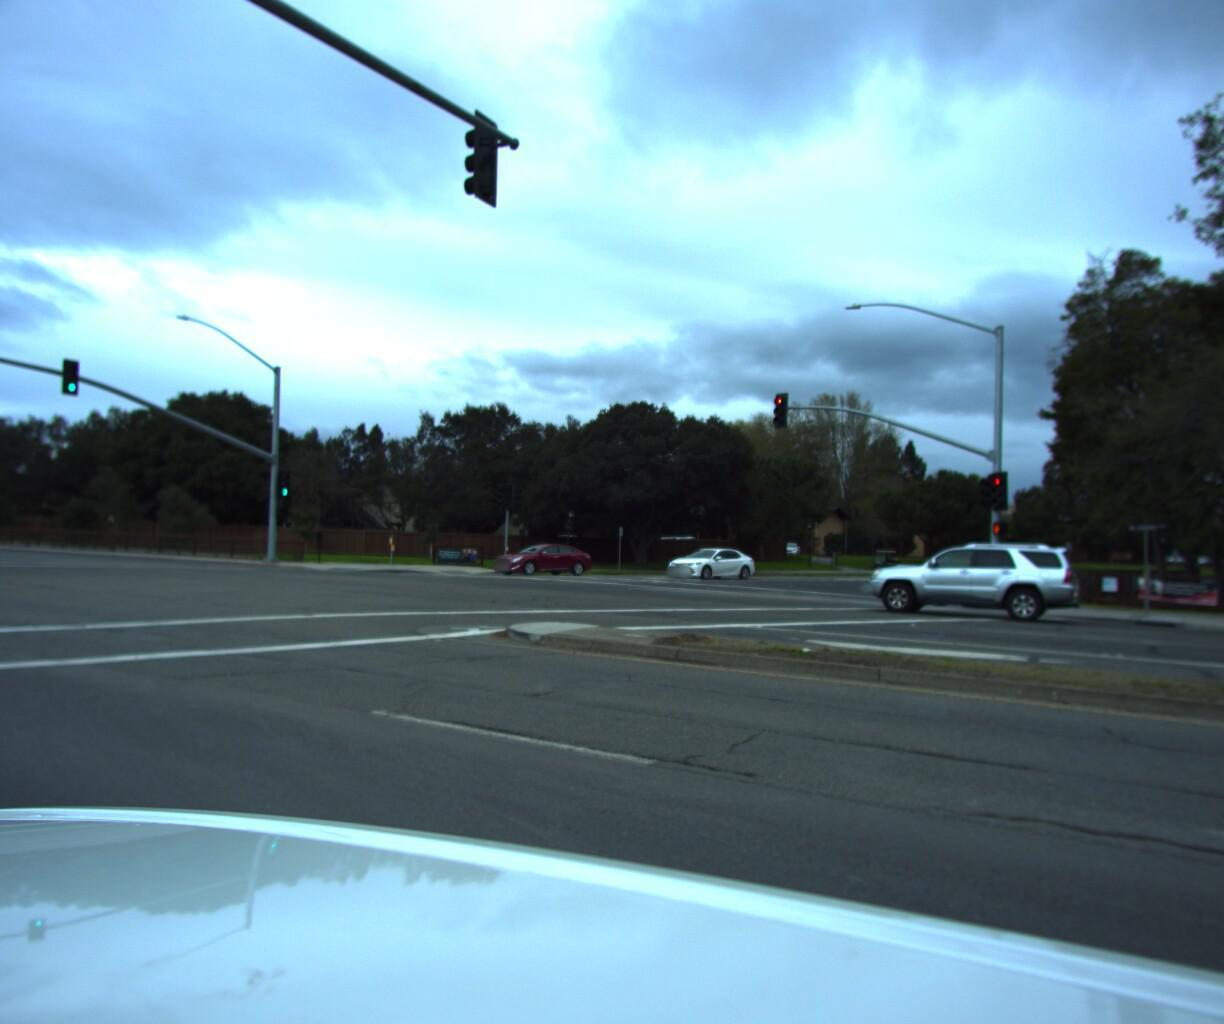car: (856, 529, 1085, 623), (485, 533, 595, 570), (657, 539, 759, 574)
